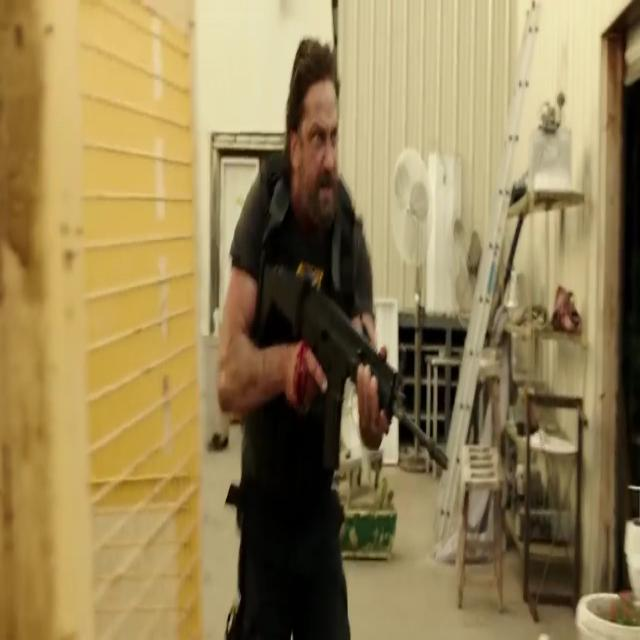Weapon: (262, 275, 466, 530)
